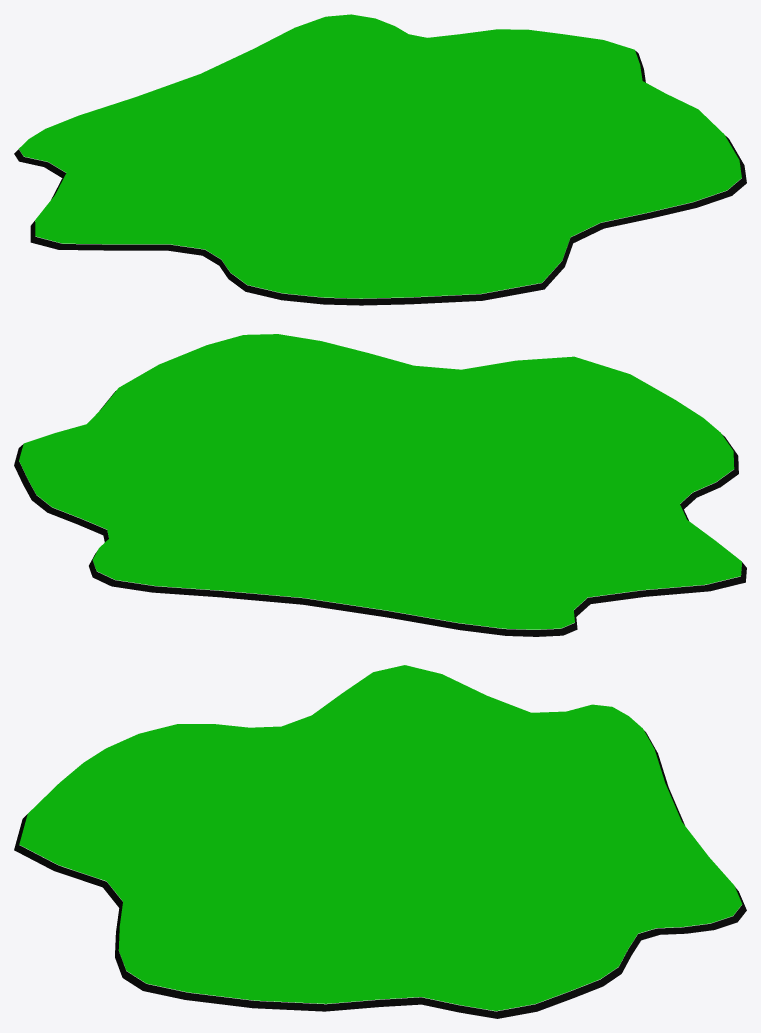
Rendered from Puddle.fbx.
3 views of the same model, one above another, from view 1: azimuth 30°, elevation 25°; view 2: azimuth 150°, elevation 25°; view 3: azimuth 270°, elevation 25° (orthographic). The views are drawn at different scales.
Visible parts, largest first — view 1: Plane.007; view 2: Plane.007; view 3: Plane.007.
Part boxes in pixels (x1,y1,x2,y2): Plane.007: (14, 14, 746, 305); Plane.007: (14, 334, 746, 636); Plane.007: (14, 665, 746, 1018).
Bounding box in the file's own units: 134 × 0.9921 × 118.
